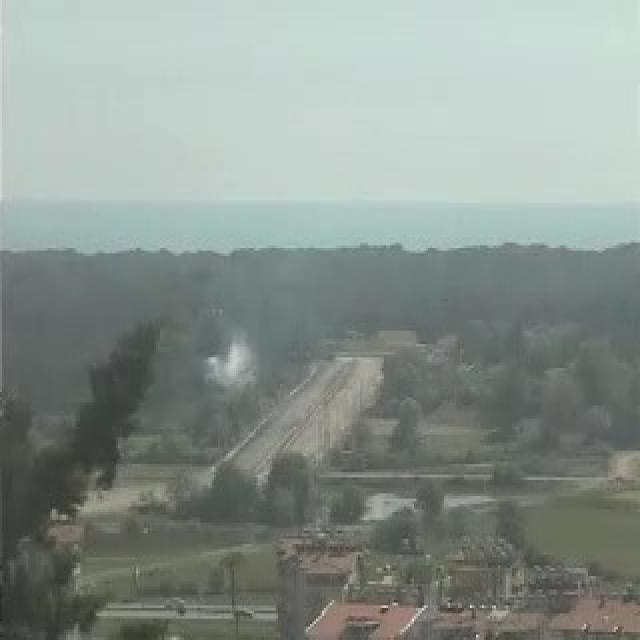smoke: (190, 332, 266, 399)
